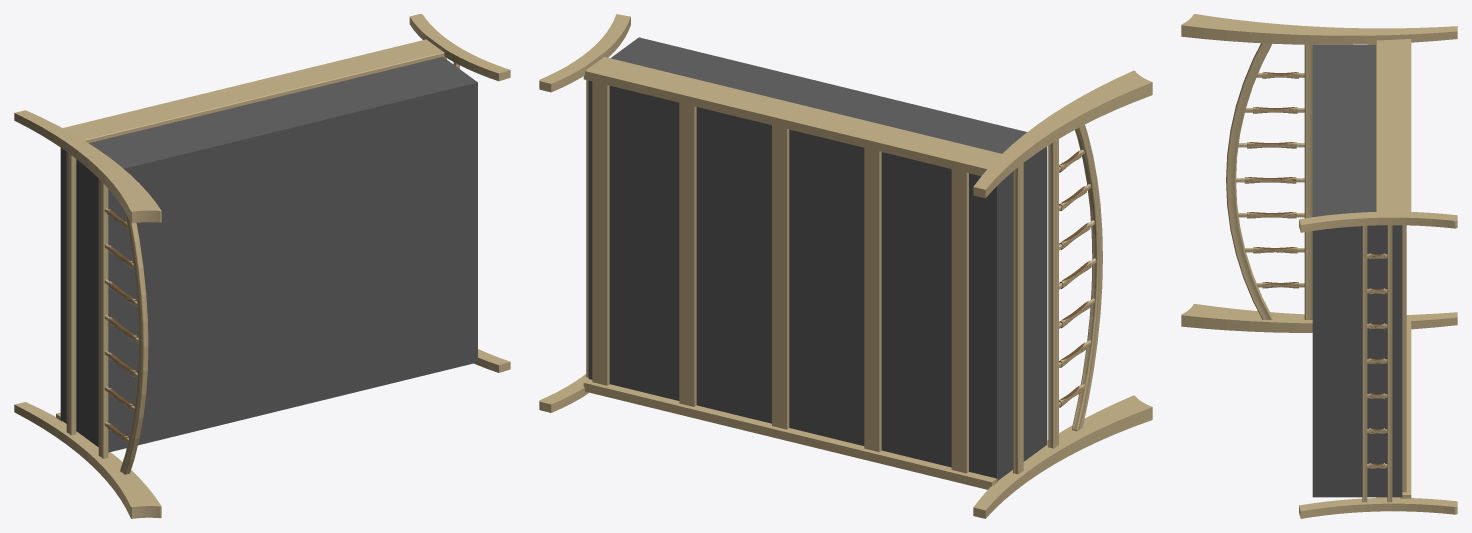
3 views of the same model, side by side, from view 1: azimuth 30°, elevation 25°; view 2: azimuth 150°, elevation 25°; view 3: azimuth 270°, elevation 25° (orthographic). The views are drawn at different scales.
Visible parts, largest first — view 1: bed; view 2: bed; view 3: bed.
Boxes of the visible parts, x1=… form: bed: x1=14, y1=14, x2=510, y2=518; bed: x1=539, y1=14, x2=1152, y2=518; bed: x1=1181, y1=14, x2=1457, y2=518.
Size of the model in its own units: 87.46 by 59.25 by 49.28.
